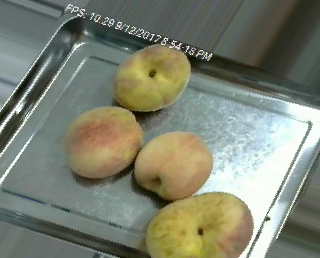Peach: (145, 190, 252, 257), (63, 105, 142, 178), (132, 130, 211, 200), (111, 43, 192, 110)
